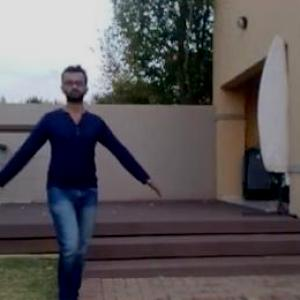land: (0, 76, 153, 299)
